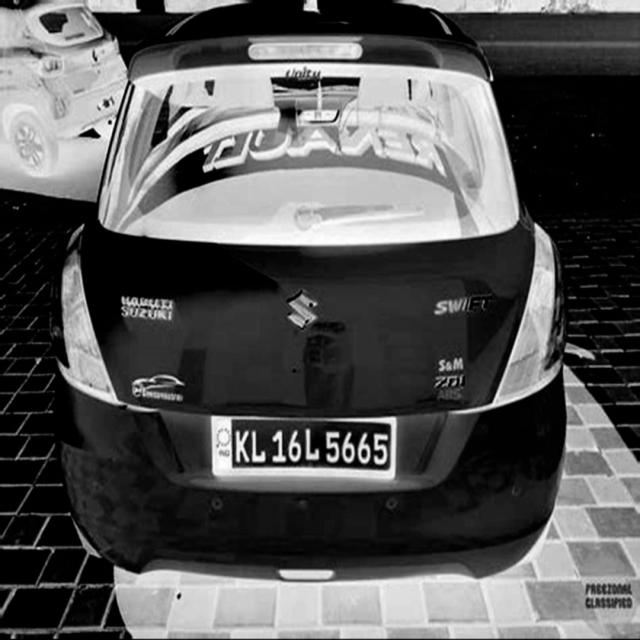1: (271, 423, 287, 466)
5: (323, 426, 342, 463), (372, 430, 388, 466)
6: (287, 426, 303, 465), (356, 427, 372, 465), (341, 427, 356, 464)
IND: (212, 421, 231, 463)
Indian_registered: (212, 412, 397, 477)
K: (234, 427, 252, 466)
L: (302, 426, 323, 466), (251, 426, 269, 464)
